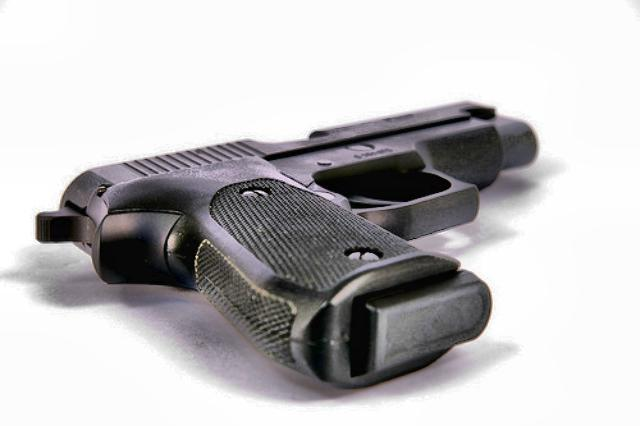pistol: (35, 97, 538, 381)
